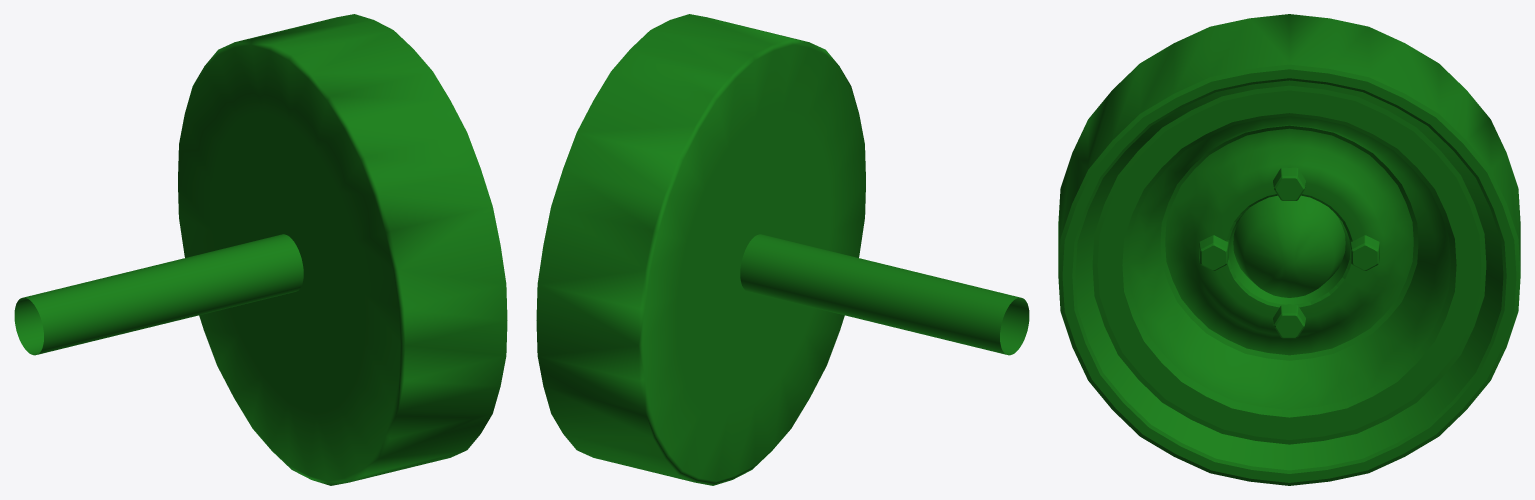
The model's file is TankFrontWheelLeft.obj.
The picture shows the model from 3 angles, left to right: view 1: azimuth 30°, elevation 25°; view 2: azimuth 150°, elevation 25°; view 3: azimuth 270°, elevation 25°; orthographic projection.
Parts seen in each view (by area): view 1: TankFrontWheelLeft_Untitled.016; view 2: TankFrontWheelLeft_Untitled.016; view 3: TankFrontWheelLeft_Untitled.016.
Part boxes in pixels (left/top/right/bottom): TankFrontWheelLeft_Untitled.016: left=14, top=14, right=507, bottom=485; TankFrontWheelLeft_Untitled.016: left=536, top=14, right=1029, bottom=485; TankFrontWheelLeft_Untitled.016: left=1058, top=14, right=1520, bottom=485.
Size of the model in its own units: 0.752 by 0.814 by 0.8094.
